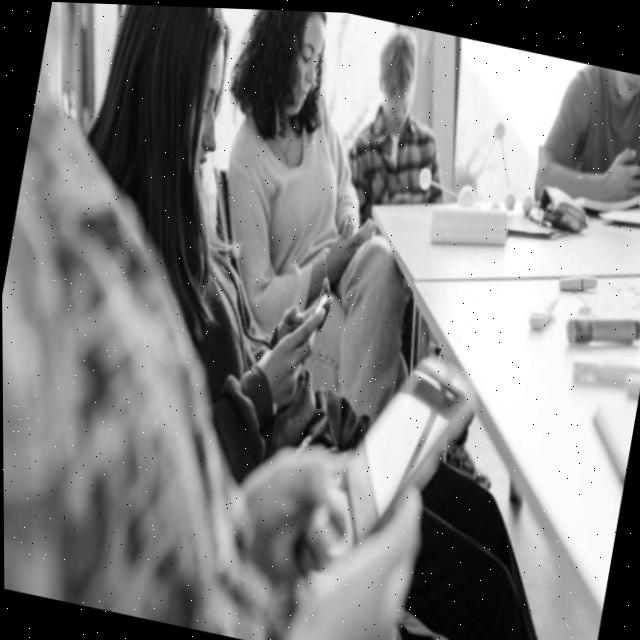phone: (269, 322, 499, 609)
